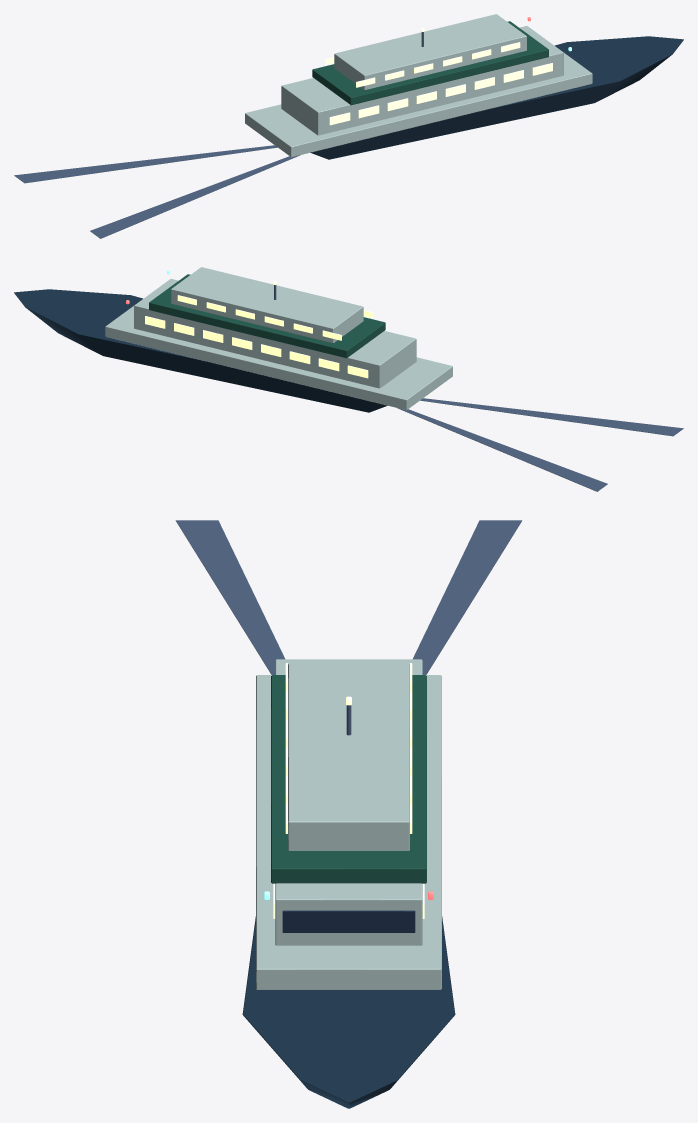
The model's file is harbour_ferry_2.glb.
3 renders of one model, top to bottom at view 1: azimuth 30°, elevation 25°; view 2: azimuth 150°, elevation 25°; view 3: azimuth 270°, elevation 25°, orthographic. The views are drawn at different scales.
Parts seen in each view (by area): view 1: harbour_ferry_2.001; view 2: harbour_ferry_2.001; view 3: harbour_ferry_2.001.
Boxes of the visible parts, left/top/right/bottom form: harbour_ferry_2.001: left=14, top=14, right=683, bottom=238; harbour_ferry_2.001: left=14, top=267, right=683, bottom=491; harbour_ferry_2.001: left=175, top=520, right=522, bottom=1108.
Bounding box in the file's own units: 30.45 × 4.44 × 7.29.
